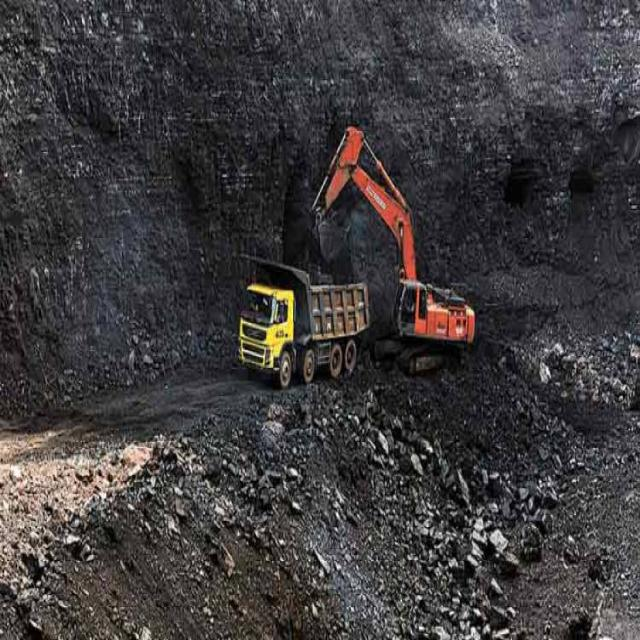dump_truck: (225, 252, 374, 384)
excavator: (313, 118, 483, 380)
